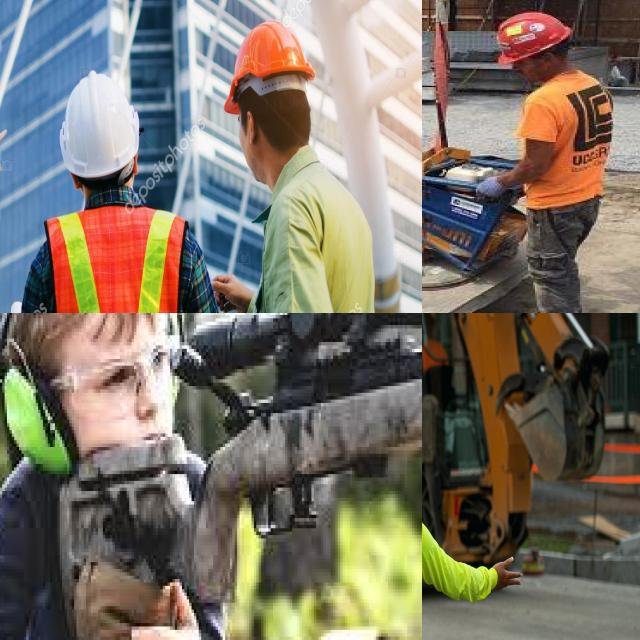Ear-protection: (4, 313, 195, 465)
No_Ear-Protection: (241, 106, 259, 148)
face_nomask: (509, 45, 557, 95)
hand_glove: (458, 167, 516, 210)
hand_noglove: (485, 540, 528, 599)
head_helmet: (55, 62, 148, 180), (224, 11, 318, 104), (493, 11, 573, 65)
person: (223, 0, 411, 313), (13, 59, 225, 313), (491, 11, 616, 313)
vest: (27, 198, 211, 313)
